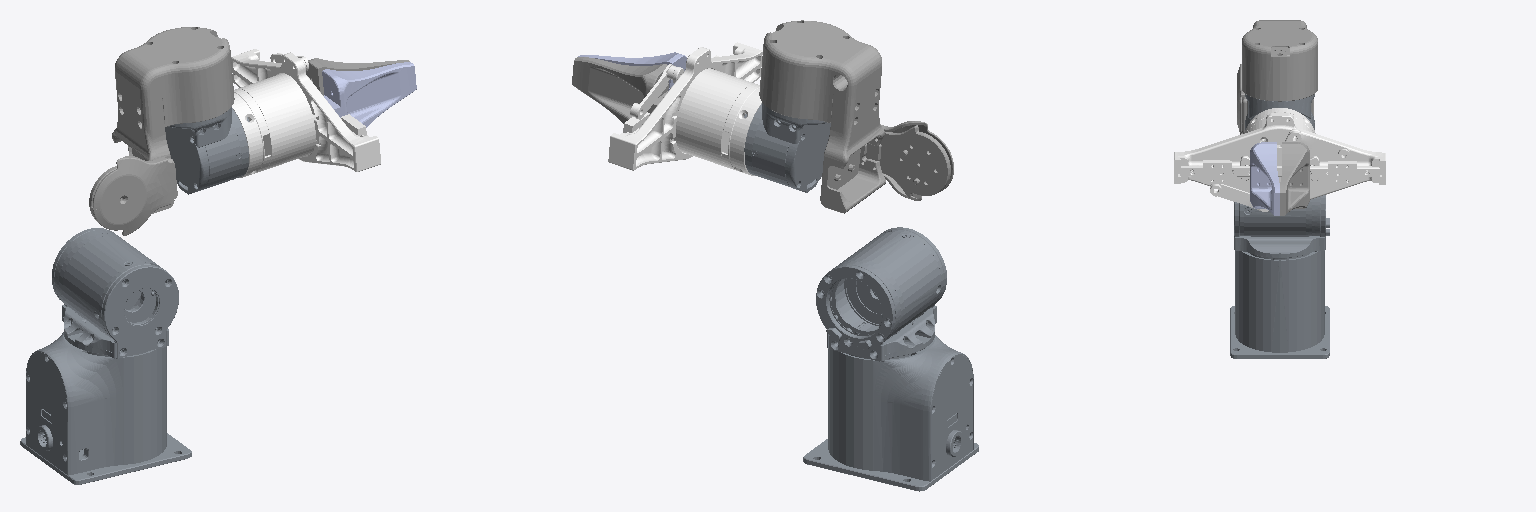
The robot description file, URDF, robot "piper_x_description":
<?xml version="1.0" encoding="utf-8"?>
<!-- This URDF was automatically created by SolidWorks to URDF Exporter! Originally created by Stephen Brawner (brawner@gmail.com) 
     Commit Version: 1.6.0-4-g7f85cfe  Build Version: 1.6.7995.38578
     For more information, please see http://wiki.ros.org/sw_urdf_exporter -->
<robot
  name="piper_x_description">
  <link
    name="base_link">
  <inertial>
    <origin xyz="-0.00347 -0.00012 0.04283" rpy="0 0 0"/>
    <mass value="1.07"/>
    <inertia
      ixx="0.00298745"
      ixy="0.00000369"
      ixz="0.00016646"
      iyy="0.00312688"
      iyz="0.00000832"
      izz="0.00093042"/>
  </inertial>
    <visual>
      <origin
        xyz="0 0 0"
        rpy="0 0 0" />
      <geometry>
        <mesh
          filename="package://piper_x_description/meshes/dae/base_link.dae" />
      </geometry>
      <material
        name="">
        <color
          rgba="0.59216 0.61961 0.65098 1" />
      </material>
    </visual>
    <collision>
      <origin
        xyz="0 0 0"
        rpy="0 0 0" />
      <geometry>
        <mesh
          filename="package://piper_x_description/meshes/dae/base_link.dae" />
      </geometry>
    </collision>
  </link>
  <link
    name="link1">
    <inertial>
      <origin xyz="0.00065 0.00006 -0.00325" rpy="0 0 0"/>
      <mass
        value="0.71" />
      <inertia
        ixx="0.00051254"
        ixy="0.00000294"
        ixz="0.00001039"
        iyy="0.00041089"
        iyz="0.00000240"
        izz="0.00045962"/>
    </inertial>
    <visual>
      <origin
        xyz="0 0 0"
        rpy="0 0 0" />
      <geometry>
        <mesh
          filename="package://piper_x_description/meshes/dae/J1.dae" />
      </geometry>
      <material
        name="">
        <color
          rgba="0.59216 0.61961 0.65098 1" />
      </material>
    </visual>
    <collision>
      <origin
        xyz="0 0 0"
        rpy="0 0 0" />
      <geometry>
        <mesh
          filename="package://piper_x_description/meshes/dae/J1.dae" />
      </geometry>
    </collision>
  </link>
  <joint
    name="joint1"
    type="revolute">
    <origin
      xyz="0 0 0.123"
      rpy="0 0 0" />
    <parent
      link="base_link" />
    <child
      link="link1" />
    <axis
      xyz="0 0 1" />
    <limit
      lower="-2.618"
      upper="2.618"
      effort="100"
      velocity="10" />
  </joint>
  <link
    name="link2">
    <inertial>
      <origin xyz="0.21854 -0.00853 0.00234" rpy="0 0 0"/>
      <mass value="1.16"/>
      <inertia
        ixx="0.00109788"
        ixy="0.00180610"
        ixz="0.00055040"
        iyy="0.06763354"
        iyz="0.00000813"
        izz="0.06762540"/>
    </inertial>
    <visual>
      <origin
        xyz="0 0 0"
        rpy="0 0 0" />
      <geometry>
        <mesh
          filename="package://piper_x_description/meshes/dae/J2.dae" />
      </geometry>
    </visual>
    <collision>
      <origin
        xyz="0 0 0"
        rpy="0 0 0" />
      <geometry>
        <mesh
          filename="package://piper_x_description/meshes/dae/J2.dae" />
      </geometry>
    </collision>
  </link>
  <joint
    name="joint2"
    type="revolute">
    <origin
      xyz="0 0 0"
      rpy="1.5708 -0.13586 3.1416" />
    <parent
      link="link1" />
    <child
      link="link2" />
    <axis
      xyz="0 0 1" />
    <limit
      lower="0"
      upper="3.14"
      effort="100"
      velocity="10" />
  </joint>
  <link
    name="link3">
    <inertial>
      <origin xyz="0.20190 -0.00415 -0.00114" rpy="0 0 0"/>
      <mass value="0.67"/>
      <inertia
        ixx="0.00033471"
        ixy="0.00026891"
        ixz="0.00013918"
        iyy="0.03360411"
        iyz="0.00000052"
        izz="0.03356941"/>
    </inertial>
    <visual>
      <origin
        xyz="0 0 0"
        rpy="0 0 0" />
      <geometry>
        <mesh
          filename="package://piper_x_description/meshes/dae/J3.dae" />
      </geometry>
      <material
        name="">
        <color
          rgba="0.59216 0.61961 0.65098 1" />
      </material>
    </visual>
    <collision>
      <origin
        xyz="0 0 0"
        rpy="0 0 0" />
      <geometry>
        <mesh
          filename="package://piper_x_description/meshes/dae/J3.dae" />
      </geometry>
    </collision>
  </link>
  <joint
    name="joint3"
    type="revolute">
    <origin
      xyz="0.28503 0 0"
      rpy="0 0 2.8377" />
    <parent
      link="link2" />
    <child
      link="link3" />
    <axis
      xyz="0 0 1" />
    <limit
      lower="-2.9671"
      upper="0"
      effort="100"
      velocity="10" />
  </joint>
  <link
    name="link4">
    <inertial>
      <origin xyz="0.06593 -0.04751 -0.00274" rpy="0 0 0"/>
      <mass value="0.4"/>
      <inertia
        ixx="0.00120173"
        ixy="0.00138165"
        ixz="0.00001187"
        iyy="0.00209324"
        iyz="0.00000217"
        izz="0.00307814"/>
    </inertial>
    <visual>
      <origin
        xyz="0 0 0"
        rpy="0 0 0" />
      <geometry>
        <mesh
          filename="package://piper_x_description/meshes/dae/J4.dae" />
      </geometry>
      <material
        name="">
        <color
          rgba="0.69804 0.69804 0.69804 0.875" />
      </material>
    </visual>
    <collision>
      <origin
        xyz="0 0 0"
        rpy="0 0 0" />
      <geometry>
        <mesh
          filename="package://piper_x_description/meshes/dae/J4.dae" />
      </geometry>
    </collision>
  </link>
  <joint
    name="joint4"
    type="revolute">
    <origin
      xyz="0.27264 0 0"
      rpy="0 0 0.075129" />
    <parent
      link="link3" />
    <child
      link="link4" />
    <axis
      xyz="0 0 1" />
    <limit
      lower="-1.57"
      upper="1.57"
      effort="100"
      velocity="10" />
  </joint>
  <link
    name="link5">
    <inertial>
      <origin xyz="0.00005 0.0 -0.00417" rpy="0 0 0"/>
      <mass value="0.35"/>
      <inertia
        ixx="0.00022660"
        ixy="0.00000019"
        ixz="0.00000005"
        iyy="0.00017740"
        iyz="0.00000085"
        izz="0.00019425"/>
    </inertial>
    <visual>
      <origin
        xyz="0 0 0"
        rpy="0 0 0" />
      <geometry>
        <mesh
          filename="package://piper_x_description/meshes/dae/J5.dae" />
      </geometry>
      <material
        name="">
        <color
          rgba="0.59216 0.61961 0.65098 1" />
      </material>
    </visual>
    <collision>
      <origin
        xyz="0 0 0"
        rpy="0 0 0" />
      <geometry>
        <mesh
          filename="package://piper_x_description/meshes/dae/J5.dae" />
      </geometry>
    </collision>
  </link>
  <joint
    name="joint5"
    type="revolute">
    <origin
      xyz="0.076857 0.00062395 0"
      rpy="-1.5708 0 0" />
    <parent
      link="link4" />
    <child
      link="link5" />
    <axis
      xyz="0 0 1" />
    <limit
      lower="-1.57"
      upper="1.57"
      effort="100"
      velocity="10" />
  </joint>
  <link
    name="link6">
    <inertial>
      <origin xyz="0 0 -0.00351" rpy="0 0 0"/>
      <mass value="0.007"/>
      <inertia
        ixx="0.00000064"
        ixy="0"
        ixz="0"
        iyy="0.00000064"
        iyz="0"
        izz="0.00000106"/>
    </inertial>
    <visual>
      <origin
        xyz="0 0 -0.035"
        rpy="0 0 0" />
      <geometry>
        <mesh
          filename="package://piper_x_description/meshes/Link6.STL" />
      </geometry>
      <material
        name="">
        <color
          rgba="0.898039215686275 0.917647058823529 0.929411764705882 1" />
      </material>
    </visual>
    <collision>
      <origin
        xyz="0 0 -0.035"
        rpy="0 0 0" />
      <geometry>
        <mesh
          filename="package://piper_x_description/meshes/Link6.STL" />
      </geometry>
    </collision>
  </link>
  <joint
    name="joint6"
    type="revolute">
    <origin
      xyz="0.035 0 0"
      rpy="1.5708 0 1.5708" />
    <parent
      link="link5" />
    <child
      link="link6" />
    <axis
      xyz="0 0 1" />
    <limit
      lower="-3.14"
      upper="3.14"
      effort="100"
      velocity="10" />
  </joint>

  <link
    name="gripper_base">
    <inertial>
      <origin xyz="-0.00006 -0.00003 0.0321436689908876" rpy="0 0 0"/>
      <mass value="0.52"/>
      <inertia
        ixx="0.00151445"
        ixy="0.00000048"
        ixz="0.00000003"
        iyy="0.00162326"
        iyz="0.00000277"
        izz="0.00030728"/>
    </inertial>
    <visual>
      <origin
        xyz="0.002 0.0078 0.06"
        rpy="-1.57 0 3.14" />
      <geometry>
        <mesh
          filename="package://piper_x_description/meshes/dae/gripper_base_100_v2.dae" scale="0.8 0.8 0.8"/>
      </geometry>
      <material
        name="">
        <color
          rgba="1 1 1 1" />
      </material>
    </visual>
    <collision>
      <origin
        xyz="0.002 0.0078 0.06"
        rpy="-1.57 0 3.14" />
      <geometry>
        <mesh
          filename="package://piper_x_description/meshes/dae/gripper_base_100_v2.dae" scale="0.8 0.8 0.8"/>
      </geometry>
    </collision>
  </link>

  <joint
    name="joint6_to_gripper_base"
    type="fixed">
    <origin
      xyz="0 0 0"
      rpy="0 0 0" />
    <parent
      link="link6" />
    <child
      link="gripper_base" />
  </joint>

  <link name="link7">
    <inertial>
    <origin
        xyz="0.000277816920932317 -0.0467673824063769 -0.00921030054508036"
        rpy="0 0 0" />
    <mass value="0.0264822021416248" />
    <inertia
        ixx="9.99779119357223E-06"
        ixy="-1.57542283433504E-07"
        ixz="2.71367446701359E-08"
        iyy="6.17952441557932E-06"
        iyz="1.58939319453383E-06"
        izz="1.4210192754512E-05" />
    </inertial>
    <visual>
      <geometry>
        <mesh filename="package://piper_x_description/meshes/dae/J7.dae" />
      </geometry>
      <material name="LightGrey">
        <color rgba="0.7 0.7 0.7 1.0"/>
      </material>
    </visual>
    <collision>
      <geometry>
        <mesh filename="package://piper_x_description/meshes/dae/J7.dae" />
      </geometry>
    </collision>
  </link>

    <joint name="joint7" type="prismatic">
        <origin xyz="0 0 0.13503" rpy="1.5708 0 1.5708" />
        <parent link="gripper_base" />
        <child link="link7" />
        <axis xyz="0 0 -1" />
        <limit lower="0" upper="0.05" effort="100" velocity="1" />
    </joint>

    <link name="link8">
        <inertial>
        <origin
            xyz="0.000277816920932317 0.0467673824063769 -0.00921030054508036"
            rpy="0 0 0" />
        <mass value="0.0264822021416248" />
        <inertia
            ixx="9.99779119357223E-06"
            ixy="-1.57542283433504E-07"
            ixz="2.71367446701359E-08"
            iyy="6.17952441557932E-06"
            iyz="1.58939319453383E-06"
            izz="1.4210192754512E-05" />
        </inertial>
        <visual>
        <origin xyz="0 0 0" rpy="0 0 0" />
        <geometry>
          <mesh filename="package://piper_x_description/meshes/dae/J8.dae" />
        </geometry>
        <material name="">
            <color rgba="0.792156862745098 0.819607843137255 0.933333333333333 1" />
        </material>
        </visual>
        <collision>
        <origin xyz="0 0 0" rpy="0 0 0" />
        <geometry>
          <mesh filename="package://piper_x_description/meshes/dae/J8.dae" />
        </geometry>
        </collision>
    </link>
    <joint name="joint8" type="prismatic">
        <origin xyz="0 0 0.13503" rpy="-1.5708 0 1.5708" />
        <parent link="gripper_base" />
        <child link="link8" />
        <axis xyz="0 0 1" />
        <limit lower="-0.05" upper="0" effort="100" velocity="1" />
    </joint>

</robot>

--- What the picture shows (computed from the rendered views, not written in the file) ---
3 views of the same robot in one strip: view 1: azimuth 30°, elevation 25°; view 2: azimuth 150°, elevation 25°; view 3: azimuth 270°, elevation 25° (orthographic).
Model piper_x_description with 10 links and 9 joints (6 revolute, 2 prismatic, 1 fixed), rooted at base_link, posed every joint at zero.
Links seen in each view (by area): view 1: base_link, link4, link1, gripper_base, link5, link8, link7; view 2: link4, base_link, link1, gripper_base, link5, link7, link8; view 3: base_link, gripper_base, link4, link1, link7, link8, link5.
Link boxes in pixels (x1=…): base_link: x1=20, y1=332, x2=191, y2=484; link4: x1=89, y1=27, x2=234, y2=235; link1: x1=52, y1=228, x2=178, y2=358; gripper_base: x1=231, y1=49, x2=380, y2=177; link5: x1=165, y1=107, x2=249, y2=194; link8: x1=322, y1=62, x2=416, y2=127; link7: x1=306, y1=58, x2=409, y2=95; link4: x1=759, y1=20, x2=953, y2=213; base_link: x1=803, y1=335, x2=978, y2=491; link1: x1=816, y1=227, x2=946, y2=361; gripper_base: x1=608, y1=42, x2=762, y2=175; link5: x1=740, y1=103, x2=830, y2=192; link7: x1=572, y1=57, x2=668, y2=123; link8: x1=578, y1=52, x2=686, y2=90; base_link: x1=1230, y1=251, x2=1329, y2=358; gripper_base: x1=1174, y1=108, x2=1385, y2=211; link4: x1=1237, y1=20, x2=1317, y2=134; link1: x1=1234, y1=195, x2=1329, y2=259; link7: x1=1280, y1=142, x2=1309, y2=215; link8: x1=1250, y1=142, x2=1279, y2=215; link5: x1=1245, y1=94, x2=1314, y2=129.
Size in the robot's own frame: 0.3349 by 0.1714 by 0.3047 metres.
Meshes: 10 distinct files referenced, 8 mesh visuals loaded (1 binary STL, 7 Collada DAE); not drawn: 2 (reference not matched to a file when rendering).
